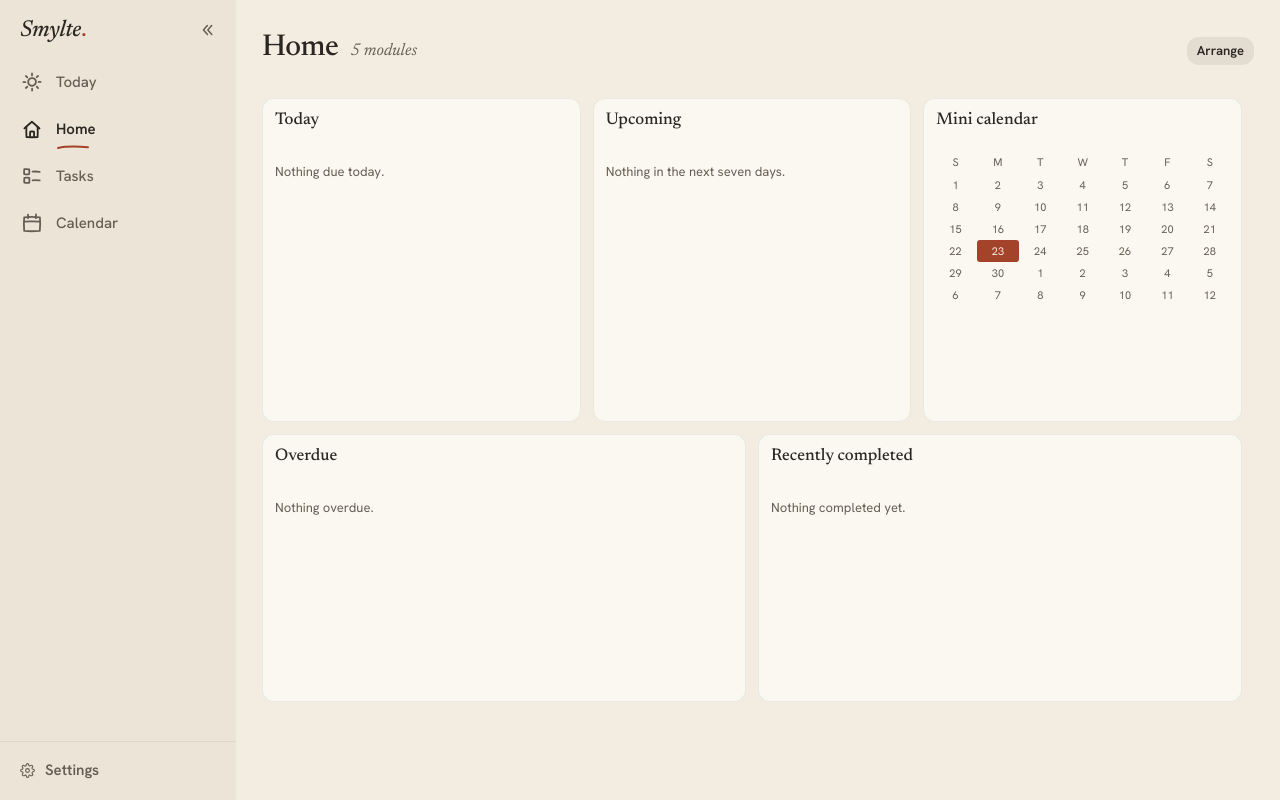
the sidebar layout › folds to a rail through the one flag both frames share
The width and height of the screenshot is (1280, 800).
Click the button named "Collapse sidebar". click: (207, 30)
box: [188,14,226,46]
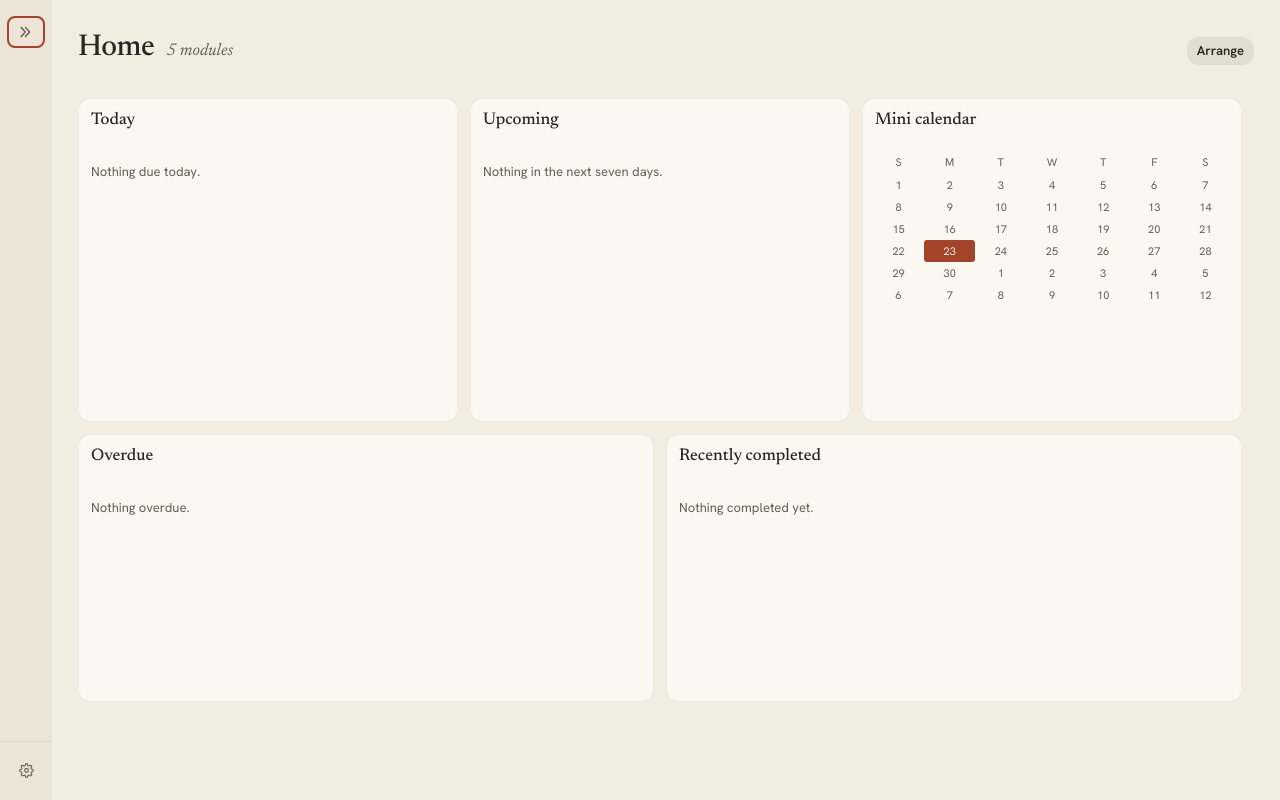
Now the button "Tasks" is gone
Click the button named "Expand sidebar". click: (26, 32)
box: [7,16,45,48]
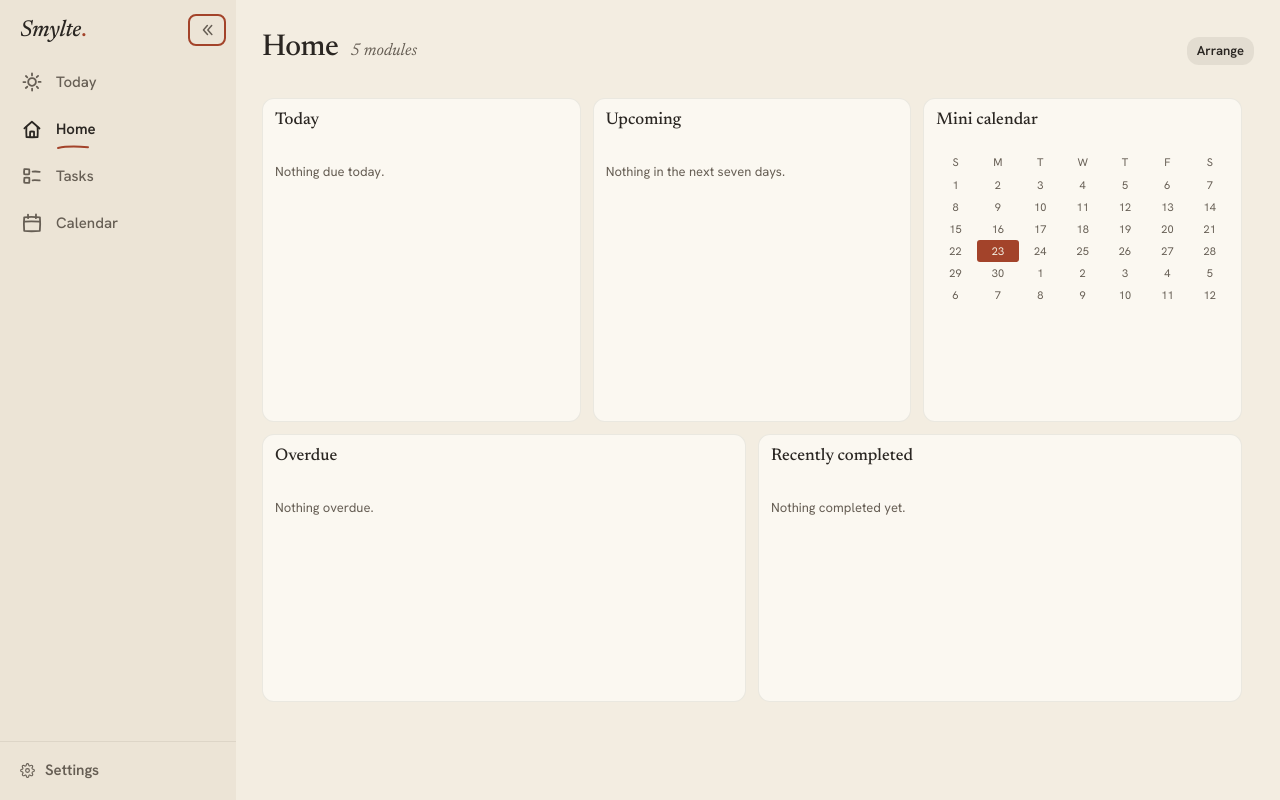
Now the button "Tasks" is shown, box [8,154,228,200]
